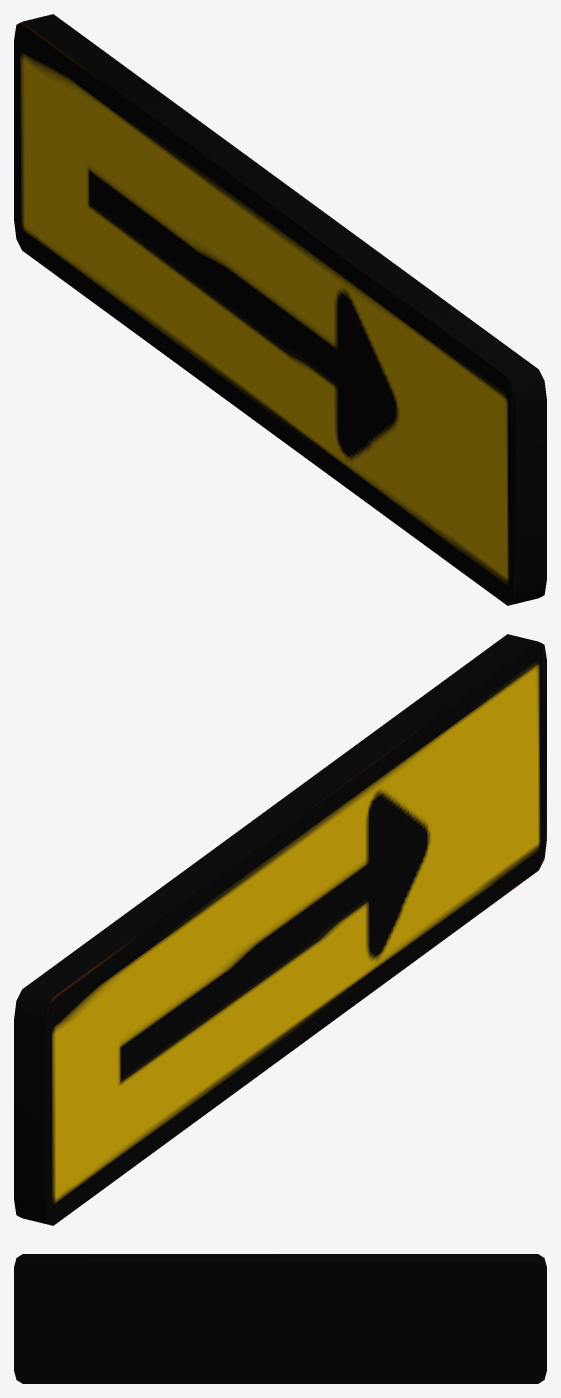
The model's file is Sign_24.fbx.
The picture shows the model from 3 angles, top to bottom: view 1: azimuth 30°, elevation 25°; view 2: azimuth 150°, elevation 25°; view 3: azimuth 270°, elevation 25°; orthographic projection. The views are drawn at different scales.
Parts seen in each view (by area): view 1: Sign_24; view 2: Sign_24; view 3: Sign_24.
Part boxes in pixels (x1,y1,x2,y2): Sign_24: [14, 14, 546, 605]; Sign_24: [14, 634, 546, 1225]; Sign_24: [14, 1254, 546, 1383].
Bounding box in the file's own units: 4.53 × 31.62 × 126.
